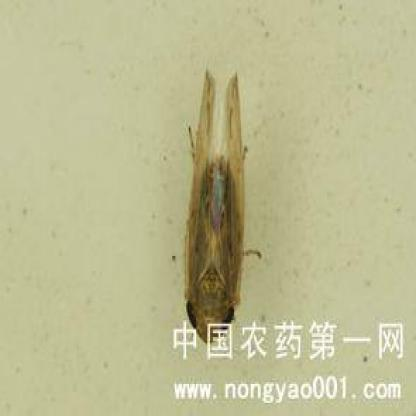Green-Leafhopper: (184, 66, 262, 350)
